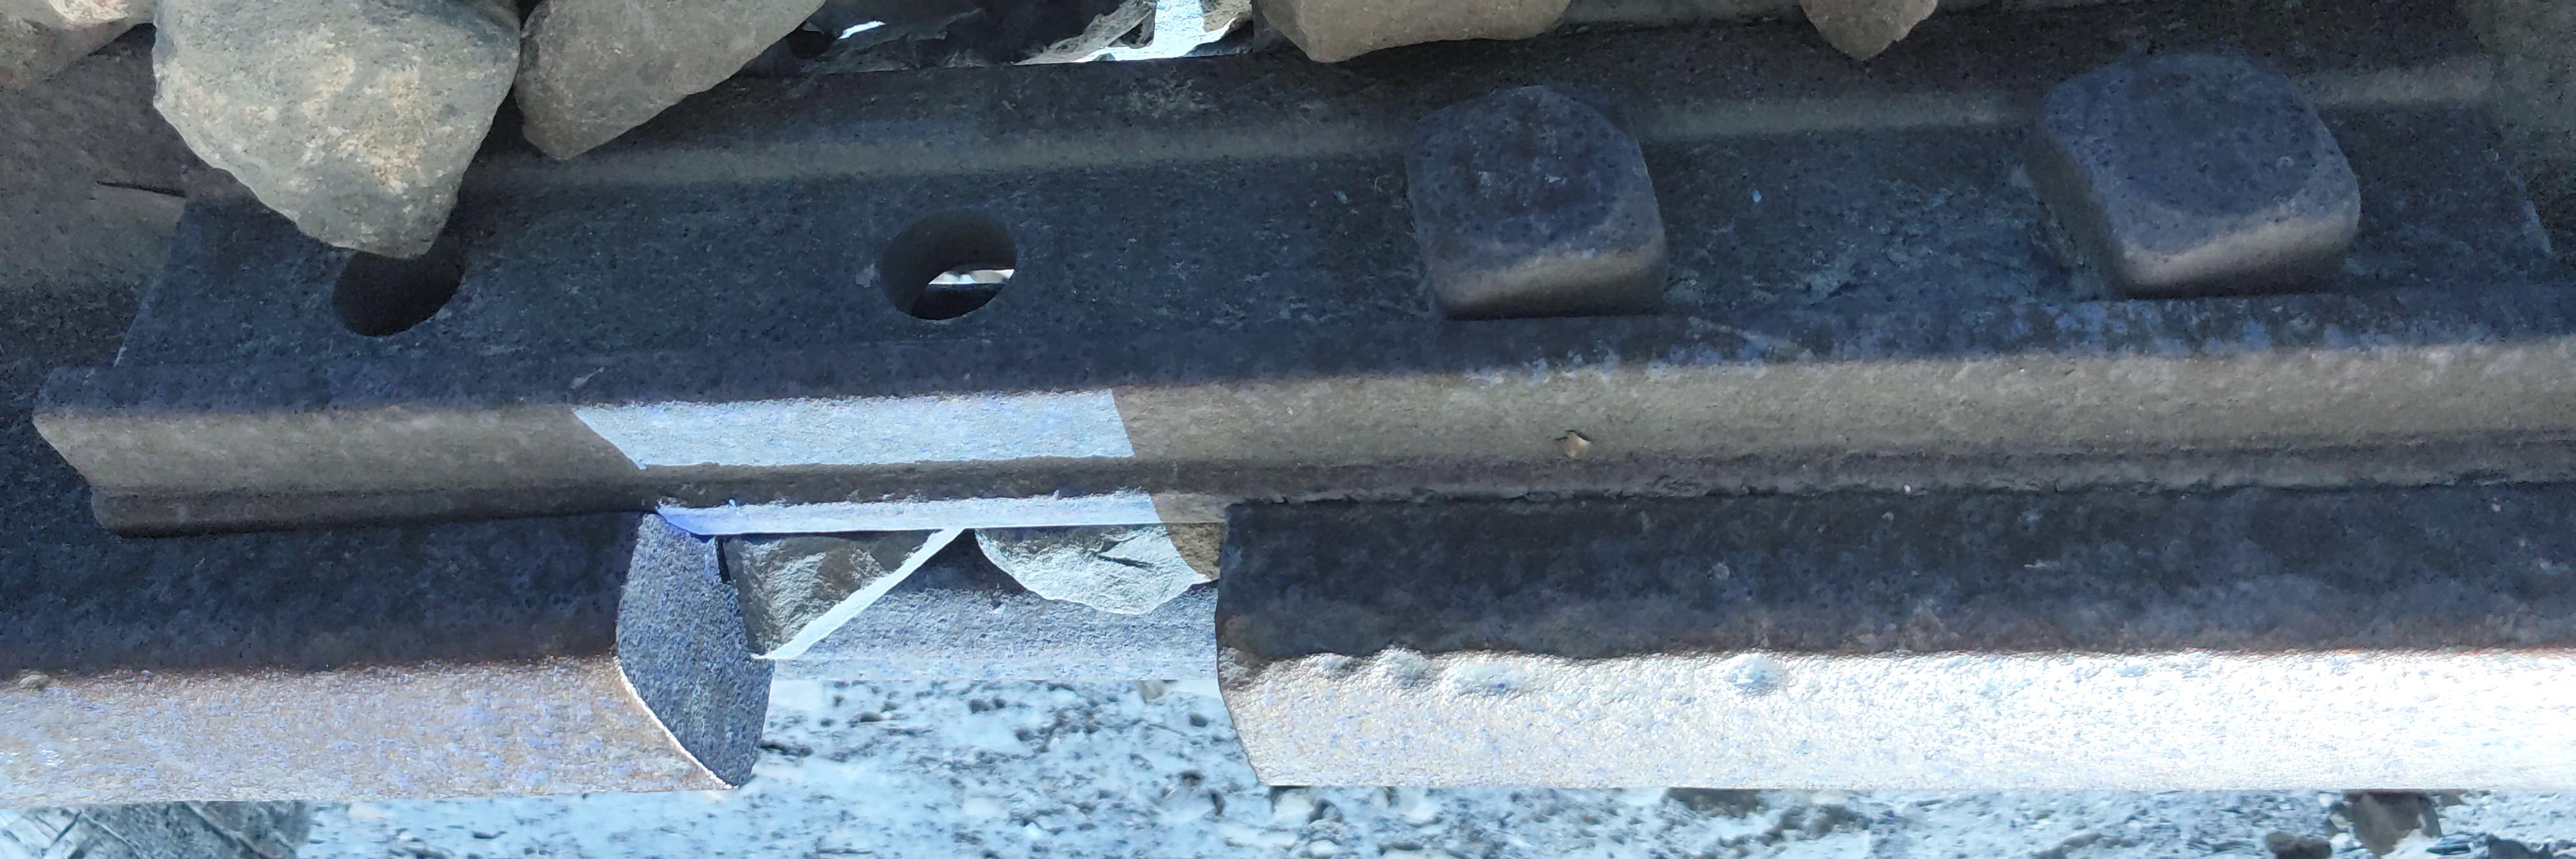error2: (606, 432, 1322, 859)
